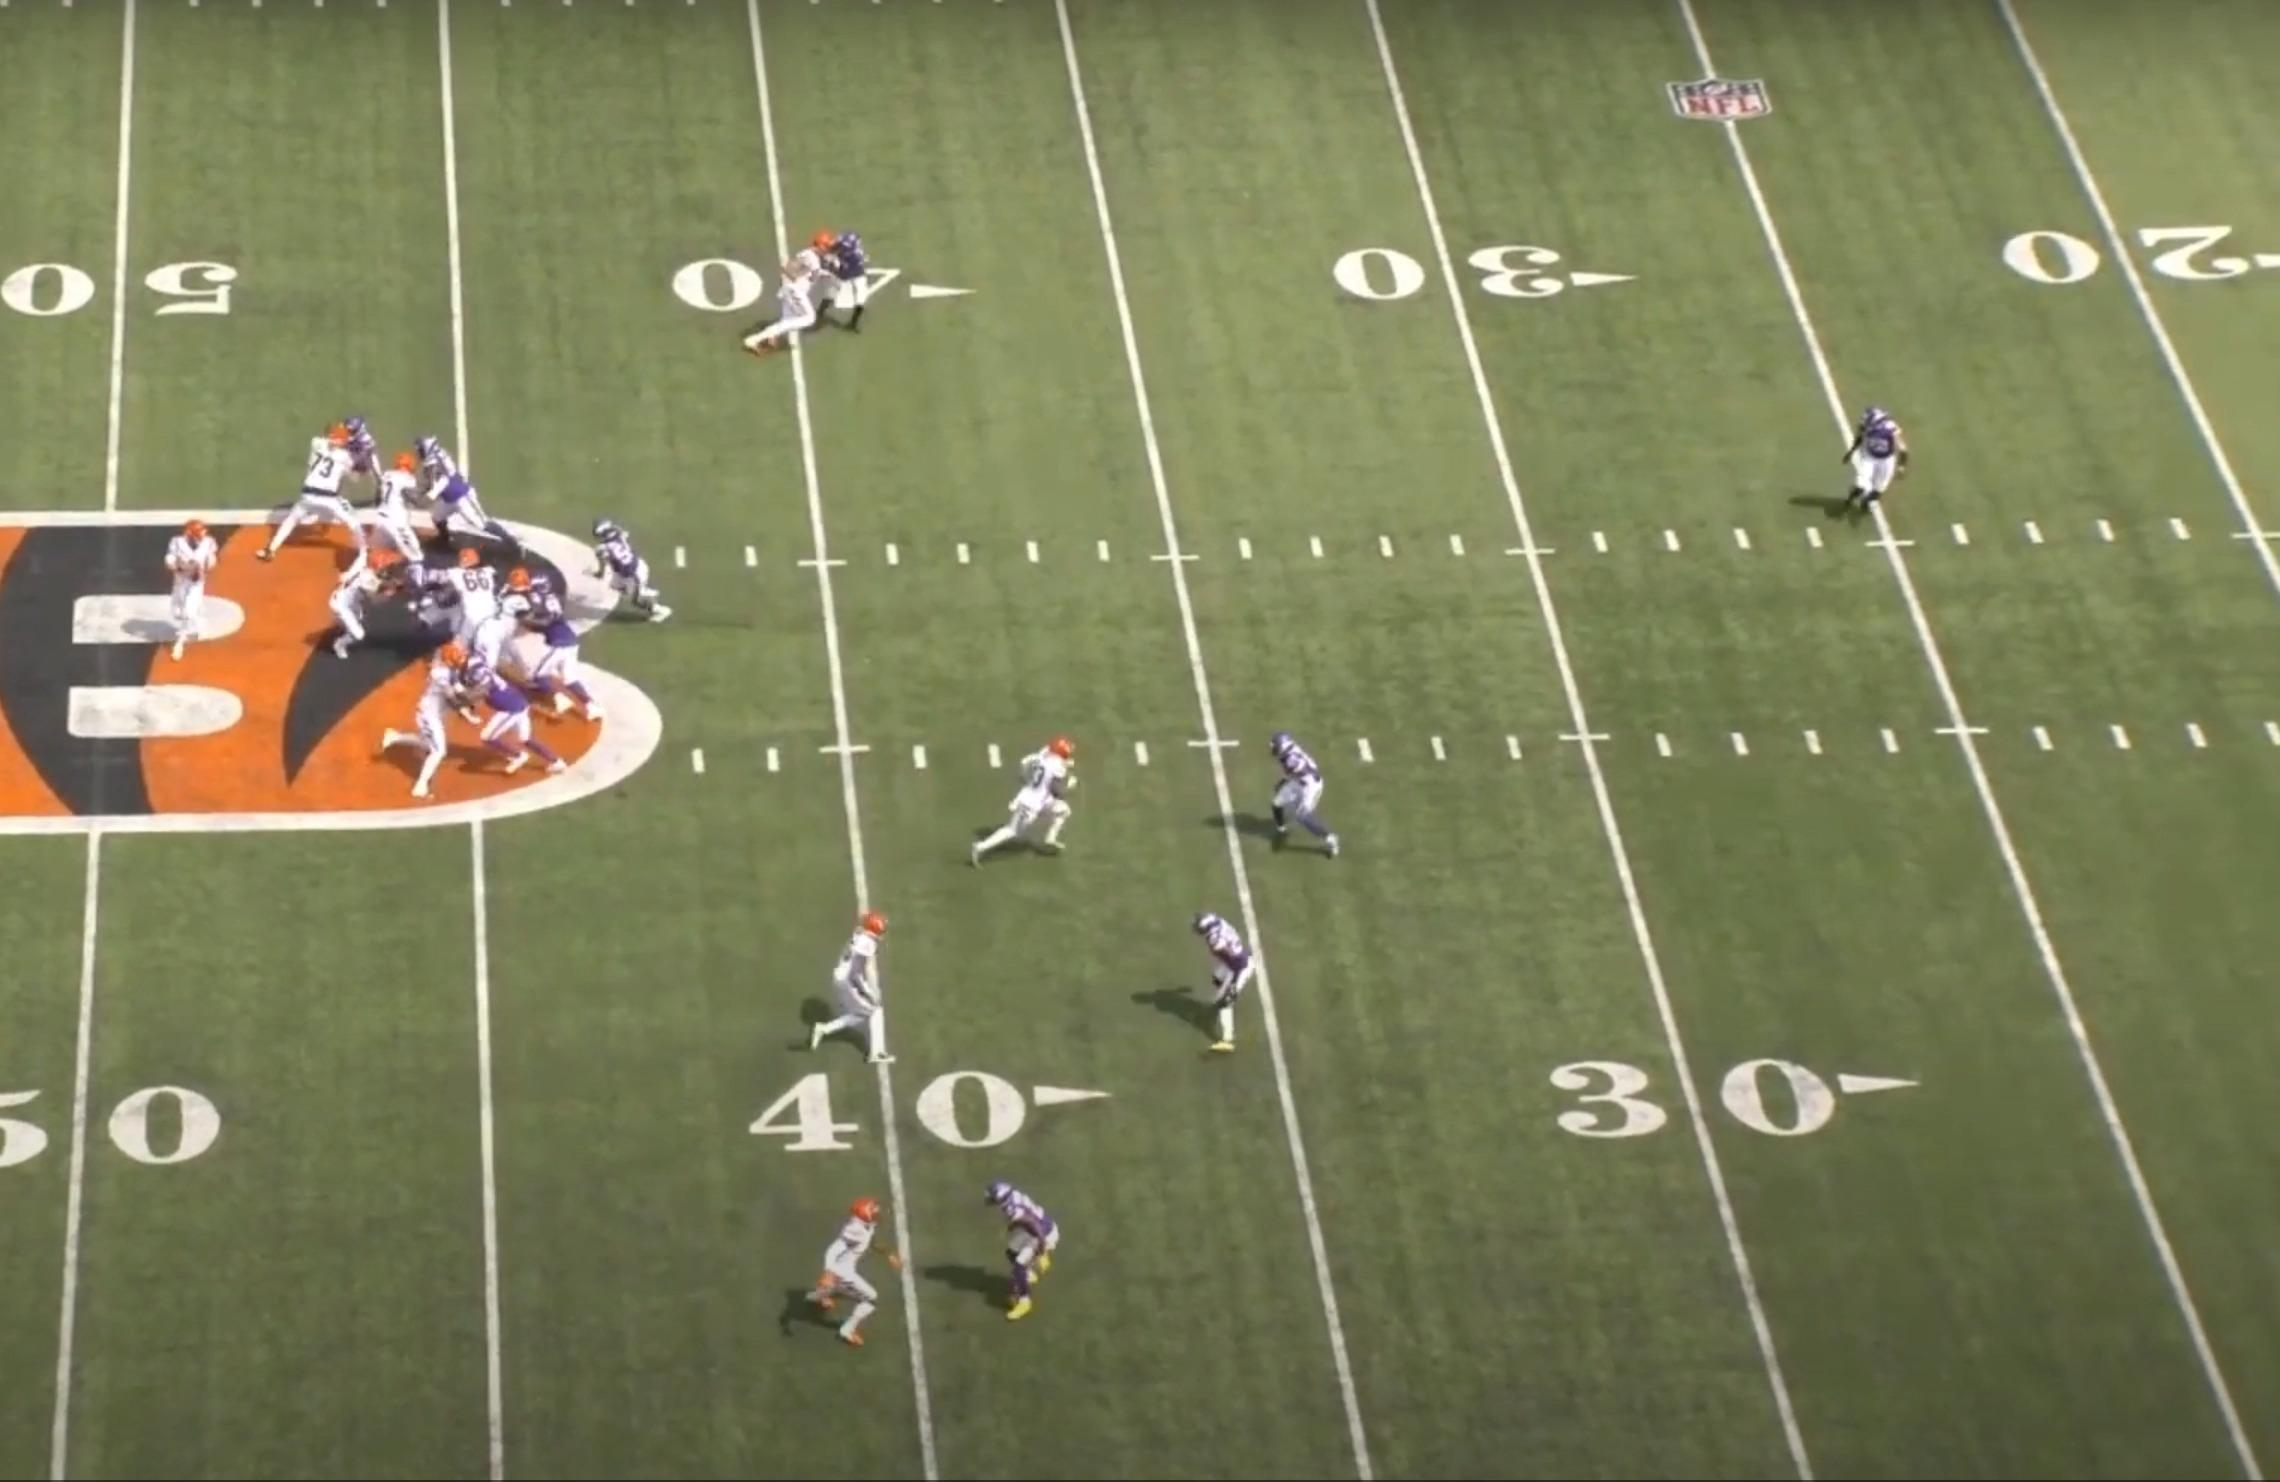defense: (411, 428, 532, 563), (988, 1169, 1072, 1324), (473, 655, 567, 783), (1258, 726, 1346, 862), (521, 566, 596, 725), (1180, 908, 1255, 1066), (584, 517, 664, 640), (1833, 407, 1907, 522), (825, 223, 876, 347), (397, 558, 464, 641), (336, 403, 382, 494)
oline: (373, 640, 484, 803), (267, 424, 369, 572), (354, 455, 429, 595), (471, 564, 554, 673), (434, 547, 504, 641)
qb: (155, 514, 220, 666)
skill: (787, 1187, 903, 1352), (967, 737, 1083, 879), (814, 900, 911, 1067), (738, 226, 839, 363), (321, 550, 393, 669)
